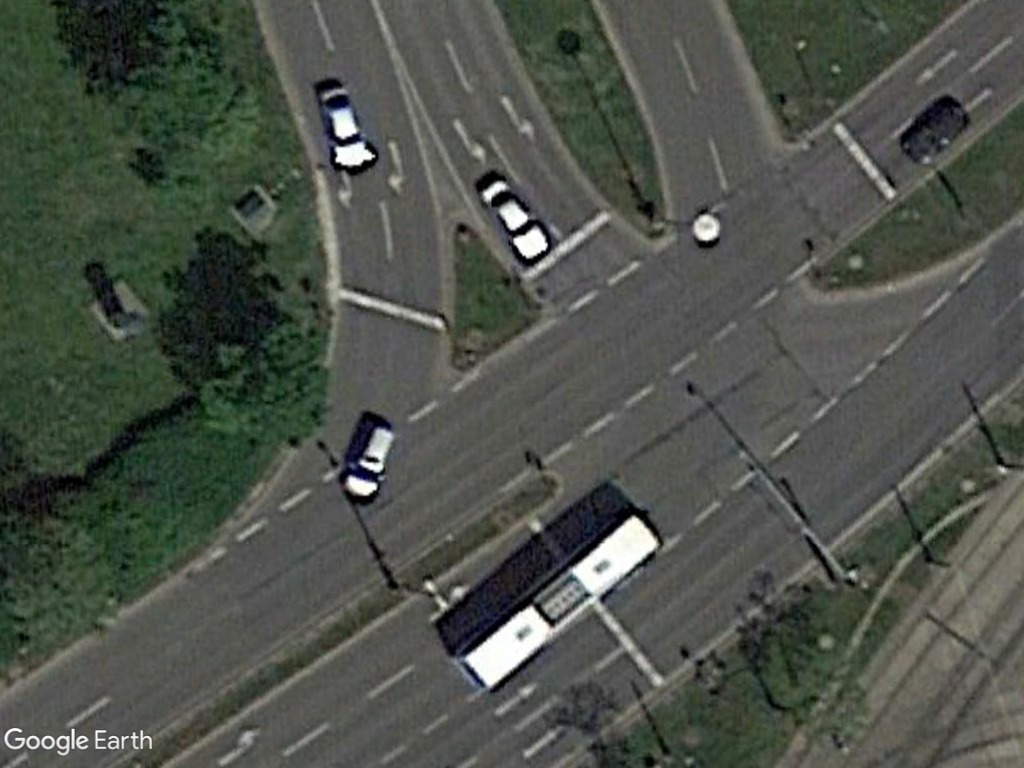bus: (441, 501, 667, 699)
car: (472, 169, 552, 265), (337, 415, 397, 504), (313, 84, 371, 175)
